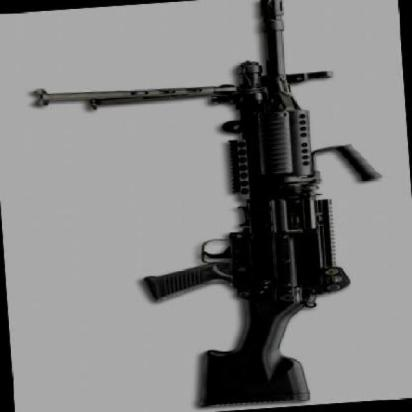Gun: (115, 0, 385, 412)
